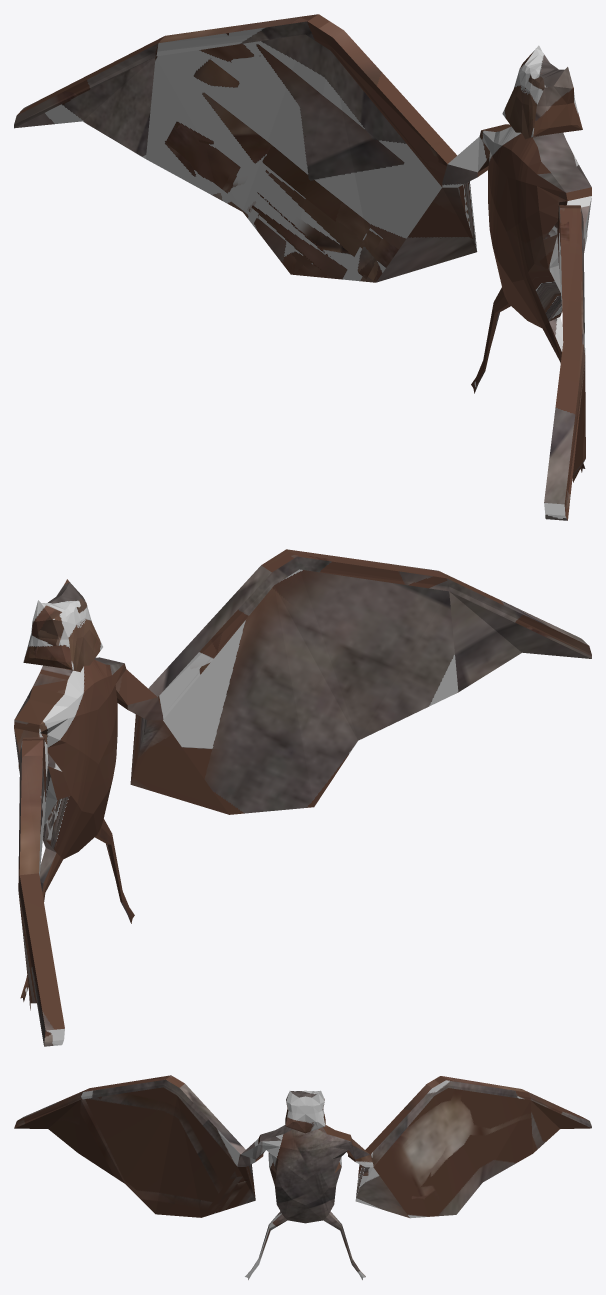
The model's file is Enemigo112.obj.
The picture shows the model from 3 angles, top to bottom: view 1: azimuth 30°, elevation 25°; view 2: azimuth 150°, elevation 25°; view 3: azimuth 270°, elevation 25°; orthographic projection. The views are drawn at different scales.
Parts seen in each view (by area): view 1: Plano; view 2: Plano; view 3: Plano.
Boxes of the visible parts, x1=… form: Plano: x1=14, y1=14, x2=591, y2=520; Plano: x1=14, y1=549, x2=591, y2=1046; Plano: x1=14, y1=1075, x2=591, y2=1279.
Bounding box in the file's own units: 0.619 × 0.7578 × 2.02.
Materials: 1 (1 with a texture image).
